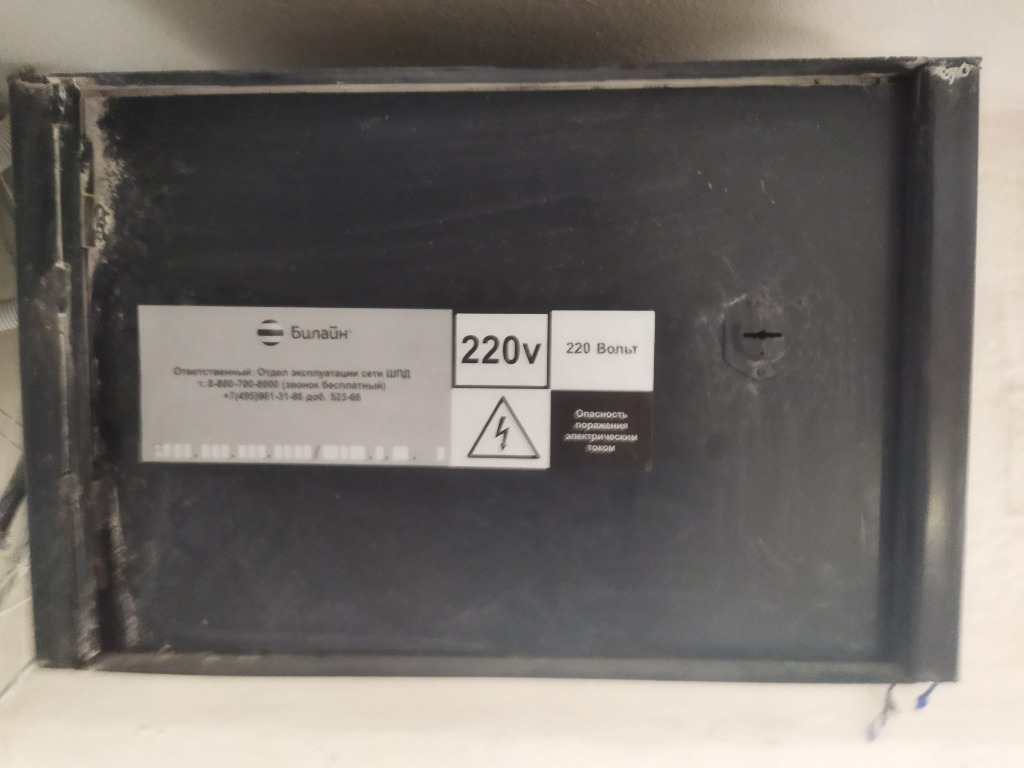e2-6u: (5, 54, 991, 688)
